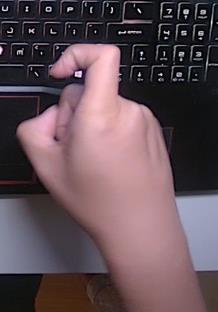anticlockwise: (13, 43, 177, 252)
